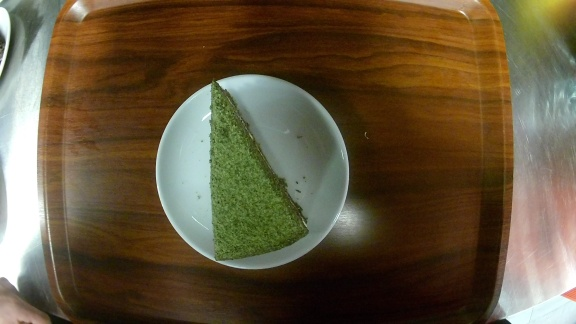fistiklipasta: (156, 73, 352, 270)
